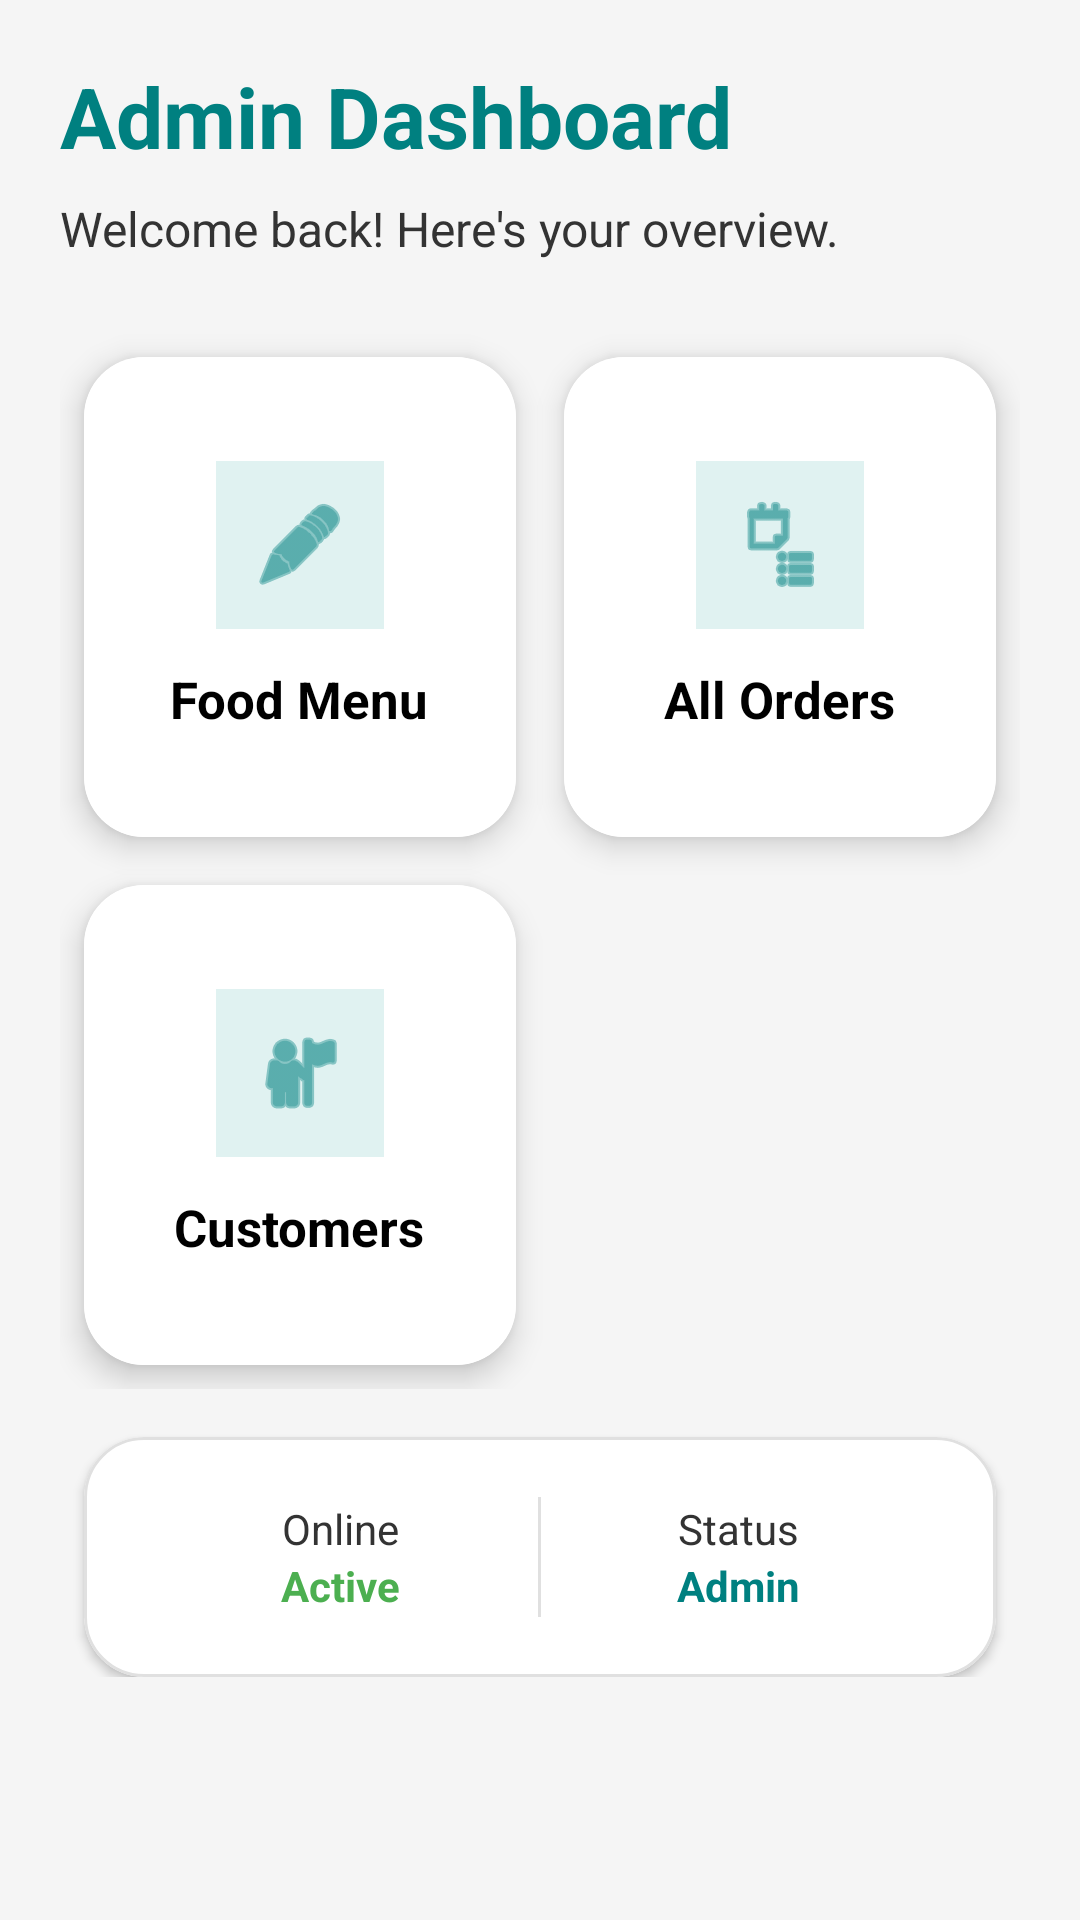

Icon bounding boxes for this 1080x1920 phone screenshot, format (x1, y1, x2, y2):
agenda: (696, 461, 864, 629)
edit: (216, 461, 384, 629)
myplaces: (216, 989, 384, 1157)
